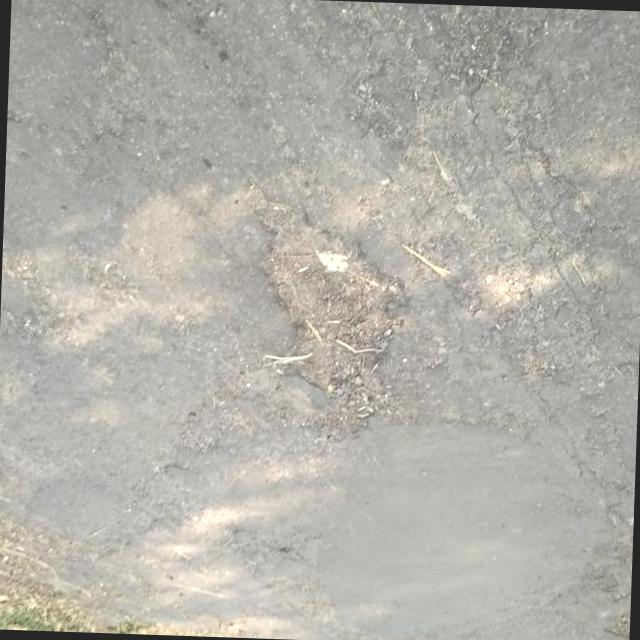pothole: (241, 196, 419, 447)
